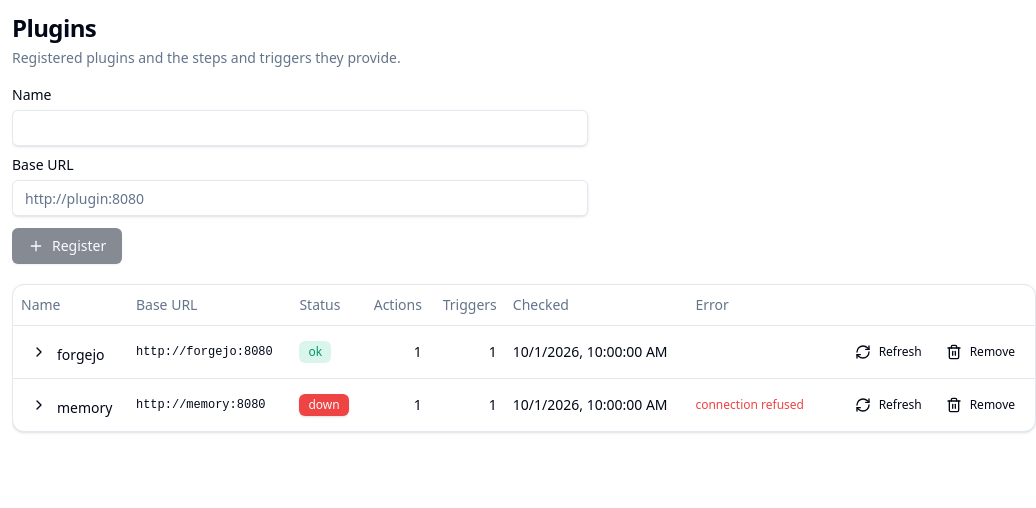
Test: Plugins › shows the API error when registering fails
The width and height of the screenshot is (1036, 508).
Expected: the text "http://memory:8080" is shown, x1=128 y1=378 x2=292 y2=430
Type "notify" into the field labelled "Name" at (300, 128), box x1=12 y1=110 x2=588 y2=146
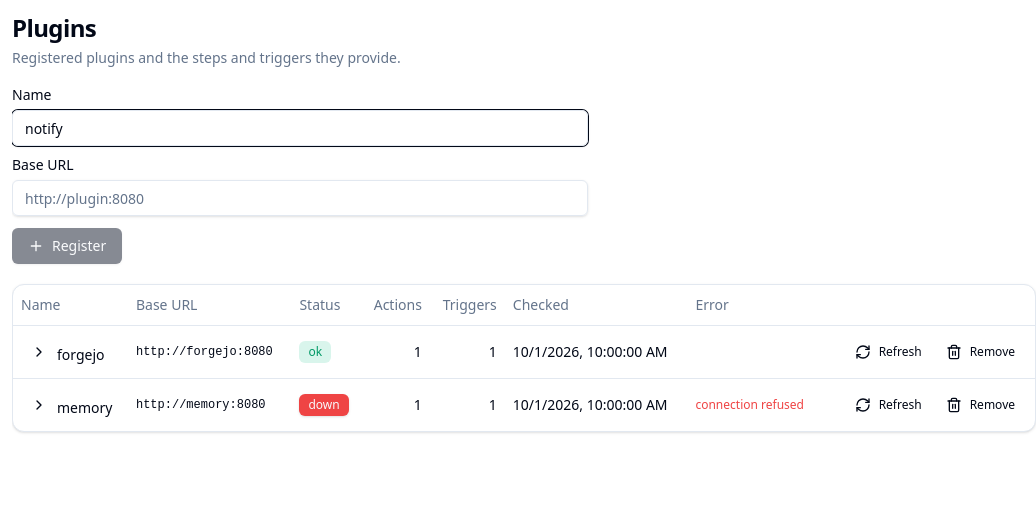
Type "http://bad" into the field labelled "Base URL" at (300, 198), box x1=12 y1=180 x2=588 y2=216
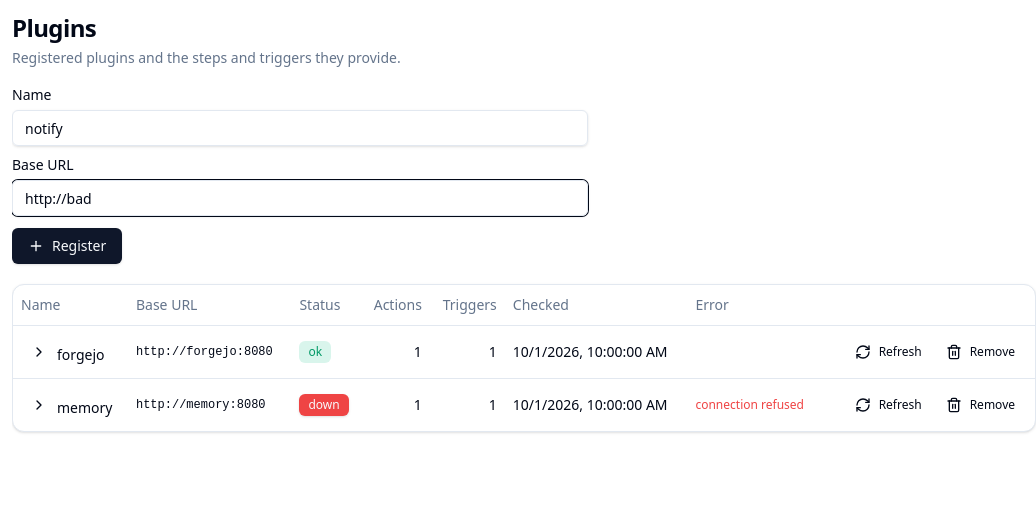
Click the button "Register" at (67, 246), box x1=12 y1=228 x2=122 y2=264
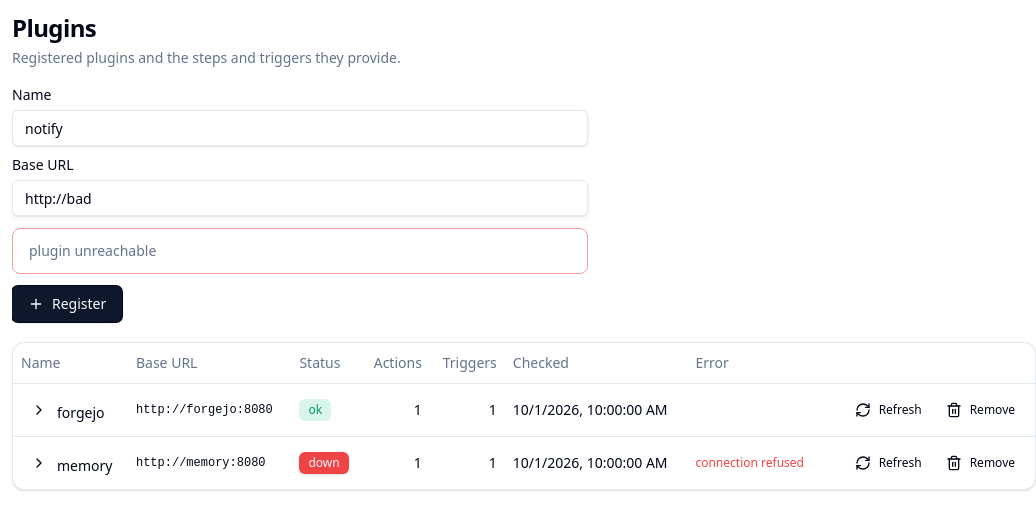
Expected: the message reads "plugin unreachable", x1=29 y1=241 x2=156 y2=260
